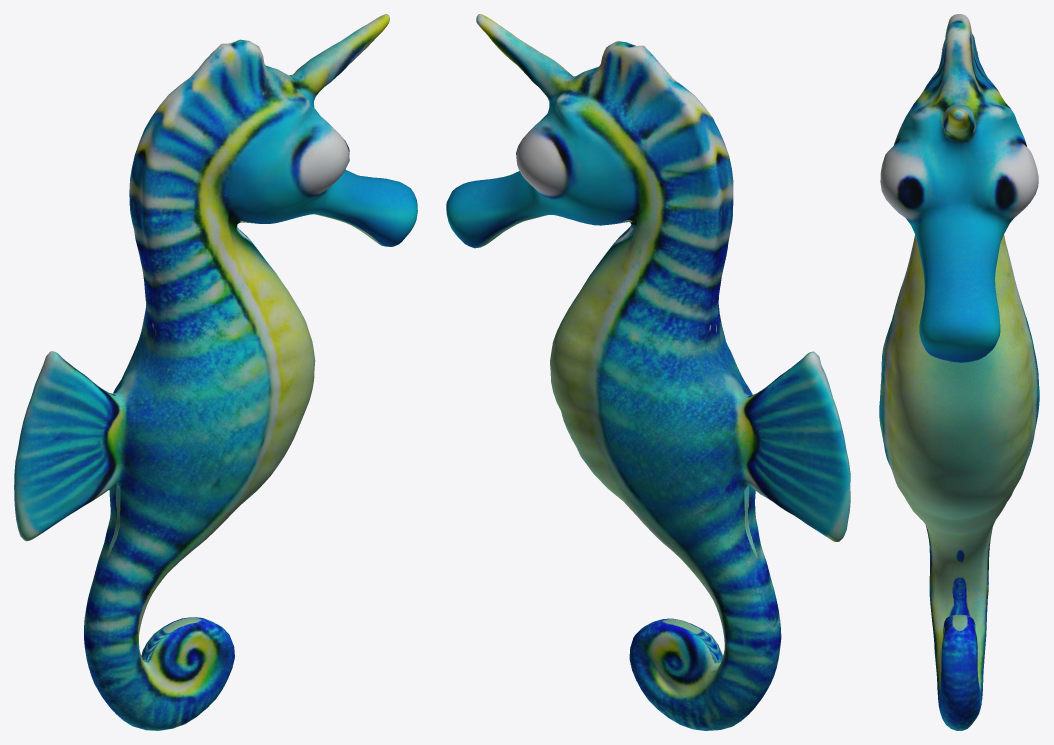
Rendered from sea_horse.glb.
3 views of the same model, side by side, from view 1: azimuth 30°, elevation 25°; view 2: azimuth 150°, elevation 25°; view 3: azimuth 270°, elevation 25° (orthographic). The views are drawn at different scales.
Parts seen in each view (by area): view 1: mesh_base_material_0; view 2: mesh_base_material_0; view 3: mesh_base_material_0.
Part boxes in pixels (x1,y1,x2,y2): mesh_base_material_0: [14, 14, 417, 730]; mesh_base_material_0: [446, 14, 850, 730]; mesh_base_material_0: [879, 14, 1039, 730].
Size of the model in its own units: 0.6212 by 0.9977 by 0.1962.
Materials: 1 (1 with a texture image).
